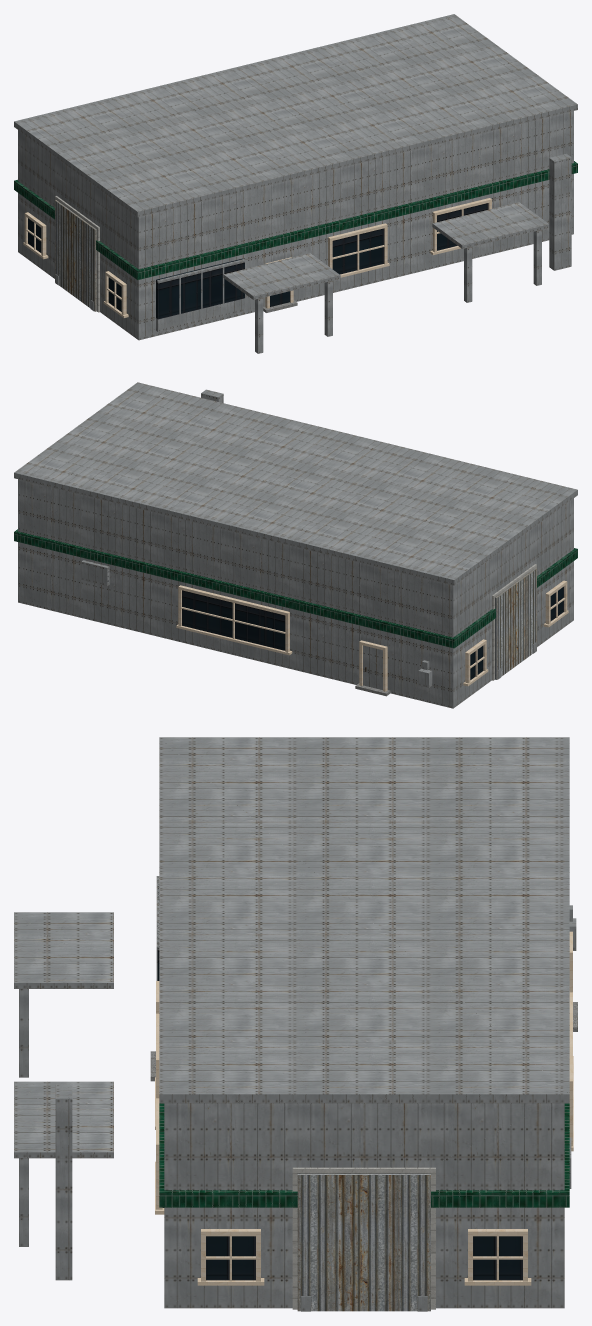
File: splash-car-wash_lod0.gltf
3 renders of one model, top to bottom at view 1: azimuth 30°, elevation 25°; view 2: azimuth 150°, elevation 25°; view 3: azimuth 270°, elevation 25°, orthographic. The views are drawn at different scales.
Parts seen in each view (by area): view 1: splash-car-wash__parapet, splash-car-wash_main, splash-car-wash_fen_07-glass-curtain-blue_1_t, splash-car-wash__tile_band, splash-car-wash_fen_21-corrugated-steel_6, splash-car-wash__vacuum_canopy_a, splash-car-wash__vacuum_canopy_b, splash-car-wash_fen_04-limestone_2, splash-car-wash__sign_pylon, splash-car-wash_fen_14-steel-panel_0, splash-car-wash__vac_post_a, splash-car-wash__vac_post_c (+3 smaller); view 2: splash-car-wash__parapet, splash-car-wash_main, splash-car-wash__tile_band, splash-car-wash_fen_07-glass-curtain-blue_1_t, splash-car-wash_fen_04-limestone_2, splash-car-wash_fen_21-corrugated-steel_6, splash-car-wash_fen_14-steel-panel_0, splash-car-wash_fen_15-concrete-boardformed_5; view 3: splash-car-wash__parapet, splash-car-wash_main, splash-car-wash_fen_21-corrugated-steel_6, splash-car-wash__vacuum_canopy_b, splash-car-wash__vacuum_canopy_a, splash-car-wash__tile_band, splash-car-wash_fen_04-limestone_2, splash-car-wash_fen_07-glass-curtain-blue_1_t, splash-car-wash__sign_pylon, splash-car-wash_fen_15-concrete-boardformed_5, splash-car-wash_fen_14-steel-panel_0, splash-car-wash__vac_post_b (+1 smaller).
Part boxes in pixels (x1,y1,x2,y2): splash-car-wash__parapet: (14, 14, 577, 217); splash-car-wash_main: (18, 111, 573, 340); splash-car-wash_fen_07-glass-curtain-blue_1_t: (28, 203, 488, 319); splash-car-wash__tile_band: (14, 161, 577, 280); splash-car-wash_fen_21-corrugated-steel_6: (55, 200, 96, 311); splash-car-wash__vacuum_canopy_a: (432, 202, 549, 248); splash-car-wash__vacuum_canopy_b: (223, 253, 340, 299); splash-car-wash_fen_04-limestone_2: (23, 198, 491, 317); splash-car-wash__sign_pylon: (549, 153, 571, 270); splash-car-wash_fen_14-steel-panel_0: (55, 259, 245, 331); splash-car-wash__vac_post_a: (464, 247, 472, 302); splash-car-wash__vac_post_c: (255, 298, 263, 353); splash-car-wash__parapet: (14, 382, 577, 585); splash-car-wash_main: (18, 479, 573, 708); splash-car-wash__tile_band: (14, 529, 577, 648); splash-car-wash_fen_07-glass-curtain-blue_1_t: (182, 586, 563, 679); splash-car-wash_fen_04-limestone_2: (176, 580, 568, 691); splash-car-wash_fen_21-corrugated-steel_6: (495, 568, 536, 679); splash-car-wash_fen_14-steel-panel_0: (81, 560, 536, 689); splash-car-wash_fen_15-concrete-boardformed_5: (492, 564, 536, 680); splash-car-wash__parapet: (159, 737, 569, 1103); splash-car-wash_main: (164, 1103, 564, 1308); splash-car-wash_fen_21-corrugated-steel_6: (297, 1173, 430, 1311); splash-car-wash__vacuum_canopy_b: (14, 912, 113, 988); splash-car-wash__vacuum_canopy_a: (14, 1081, 113, 1158); splash-car-wash__tile_band: (159, 1103, 569, 1207); splash-car-wash_fen_04-limestone_2: (155, 931, 573, 1285); splash-car-wash_fen_07-glass-curtain-blue_1_t: (157, 884, 522, 1280); splash-car-wash__sign_pylon: (55, 1084, 72, 1280); splash-car-wash_fen_15-concrete-boardformed_5: (292, 1167, 435, 1309); splash-car-wash_fen_14-steel-panel_0: (156, 876, 576, 1311); splash-car-wash__vac_post_b: (19, 1158, 28, 1246).
Bounding box in the file's own units: 25.55 × 7.15 × 16.9.
